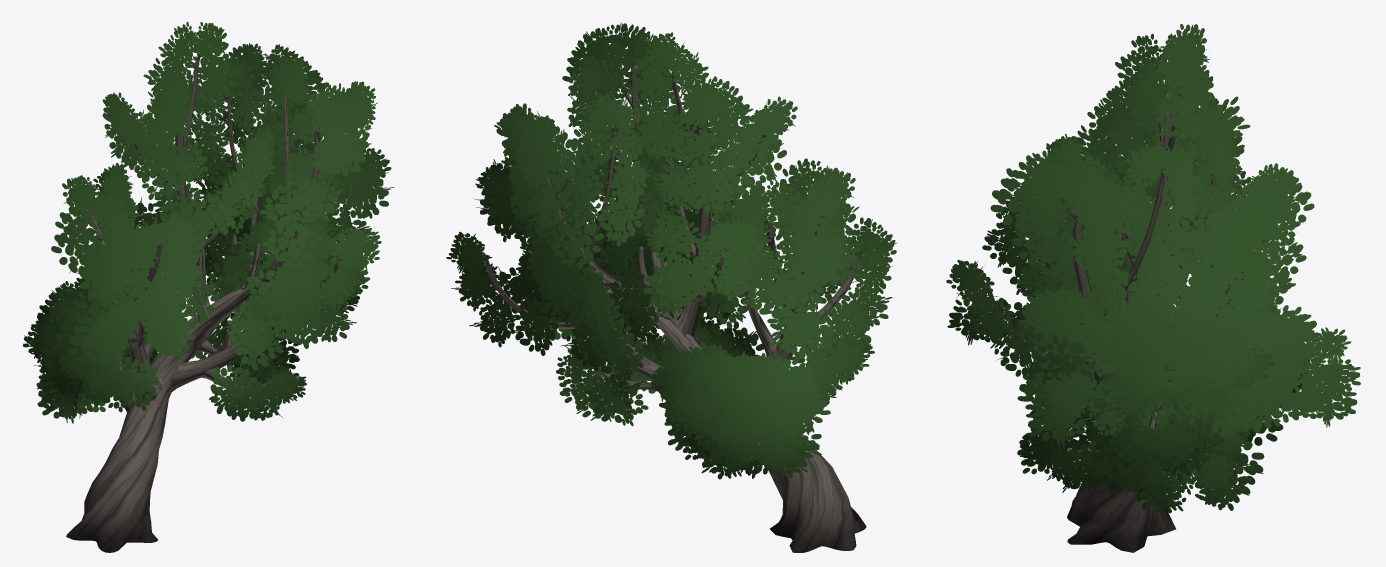
The model's file is arv_antiga.glb.
3 renders of one model, left to right at view 1: azimuth 30°, elevation 25°; view 2: azimuth 150°, elevation 25°; view 3: azimuth 270°, elevation 25°, orthographic. The views are drawn at different scales.
Parts seen in each view (by area): view 1: TwistedTree_1; view 2: TwistedTree_1; view 3: TwistedTree_1.
Boxes of the visible parts, box(x1,y1,x2,y2) form: TwistedTree_1: box(23, 21, 394, 552); TwistedTree_1: box(446, 22, 897, 552); TwistedTree_1: box(946, 24, 1360, 552).
Bounding box in the file's own units: 13.52 × 16.73 × 11.55.
Materials: 2 (2 with a texture image).
